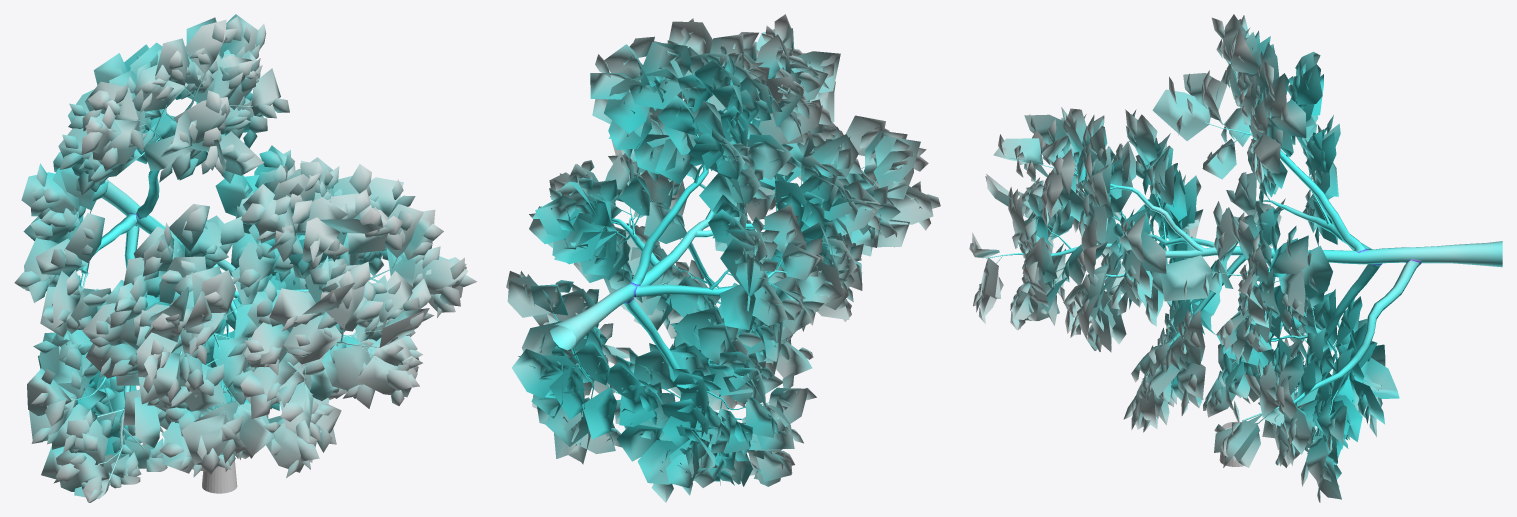
File: KIT_MapleLarge3.fbx
3 renders of one model, left to right at view 1: azimuth 30°, elevation 25°; view 2: azimuth 150°, elevation 25°; view 3: azimuth 270°, elevation 25°, orthographic. The views are drawn at different scales.
Parts seen in each view (by area): view 1: Upper_LOD0, Stump_LOD0; view 2: Upper_LOD0; view 3: Upper_LOD0.
Boxes of the visible parts, x1,y1,x2,y2 form: Upper_LOD0: (14, 14, 477, 502); Stump_LOD0: (202, 460, 237, 493); Upper_LOD0: (506, 14, 940, 502); Upper_LOD0: (969, 14, 1502, 502).
Size of what is drawn, in the model's own units: 1176 by 1496 by 1699.
